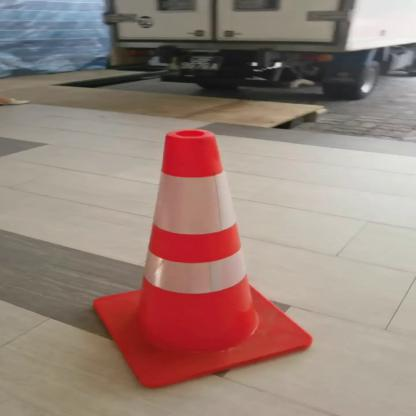cone: (75, 126, 323, 392)
